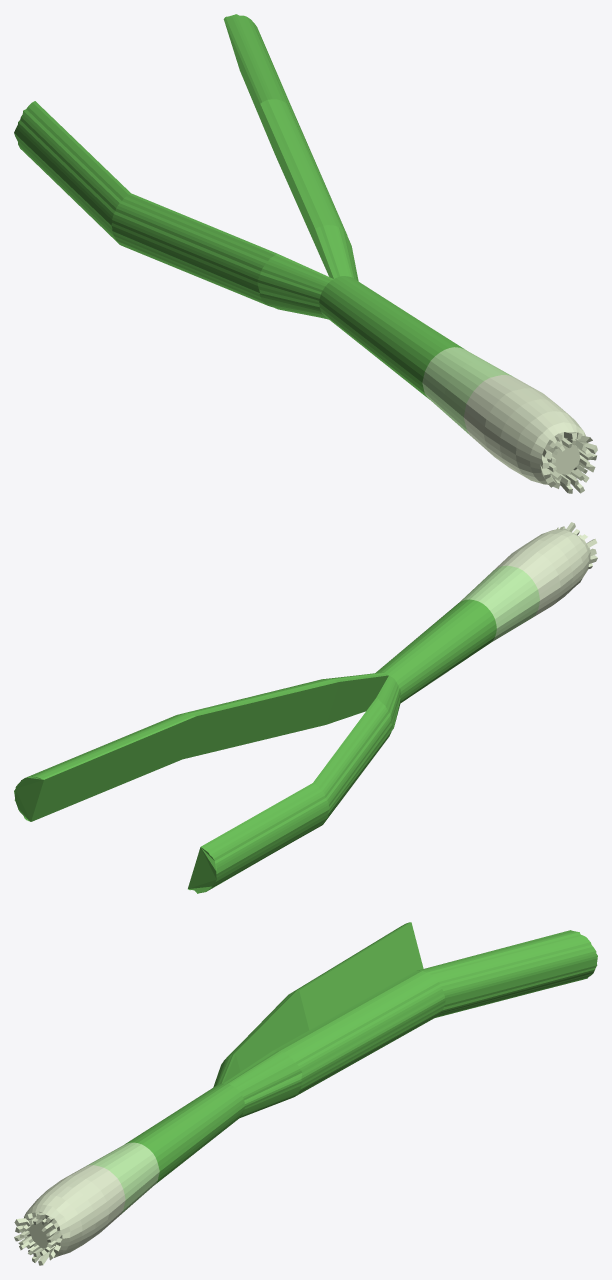
Rendered from greenOnionUncutfbx.fbx.
3 views of the same model, one above another, from view 1: azimuth 30°, elevation 25°; view 2: azimuth 150°, elevation 25°; view 3: azimuth 330°, elevation 25° (orthographic). The views are drawn at different scales.
Visible parts, largest first — view 1: Cylinder.013; view 2: Cylinder.013; view 3: Cylinder.013.
Boxes of the visible parts, left/top/right/bottom form: Cylinder.013: left=14, top=14, right=597, bottom=493; Cylinder.013: left=14, top=522, right=597, bottom=893; Cylinder.013: left=14, top=922, right=597, bottom=1265.
Size of the model in its own units: 265 by 106 by 868.
